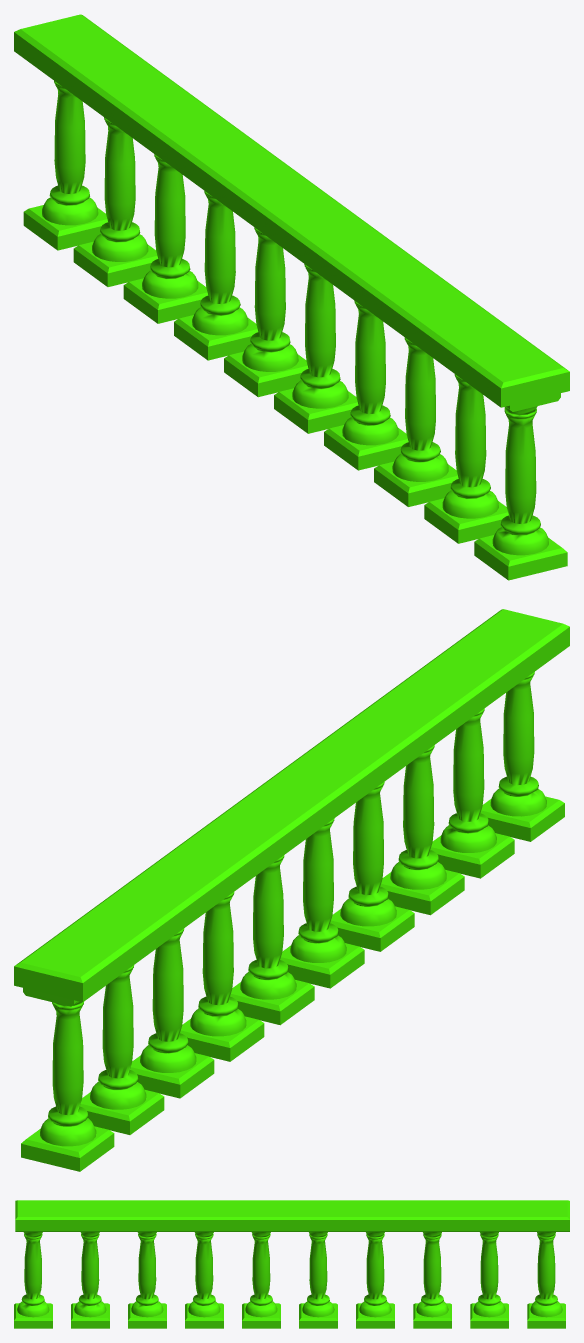
The model's file is railing_edited_top.gltf.
3 renders of one model, top to bottom at view 1: azimuth 30°, elevation 25°; view 2: azimuth 150°, elevation 25°; view 3: azimuth 270°, elevation 25°, orthographic. The views are drawn at different scales.
Visible parts, largest first — view 1: polySurface17_M_tesuri_0; view 2: polySurface17_M_tesuri_0; view 3: polySurface17_M_tesuri_0.
Part boxes in pixels (bbox=[...]): polySurface17_M_tesuri_0: bbox=[14, 14, 569, 580]; polySurface17_M_tesuri_0: bbox=[14, 609, 569, 1171]; polySurface17_M_tesuri_0: bbox=[14, 1200, 569, 1328].
Size of the model in its own units: 35.74 by 97.21 by 439.
Materials: 1 (1 with a texture image).
